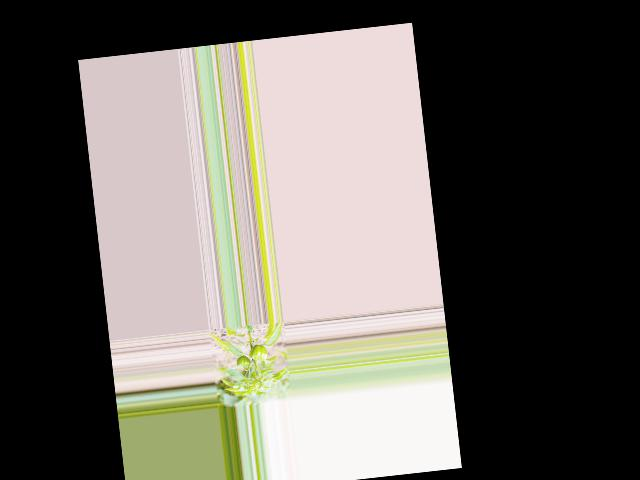bell_pepper: (235, 354, 251, 369)
